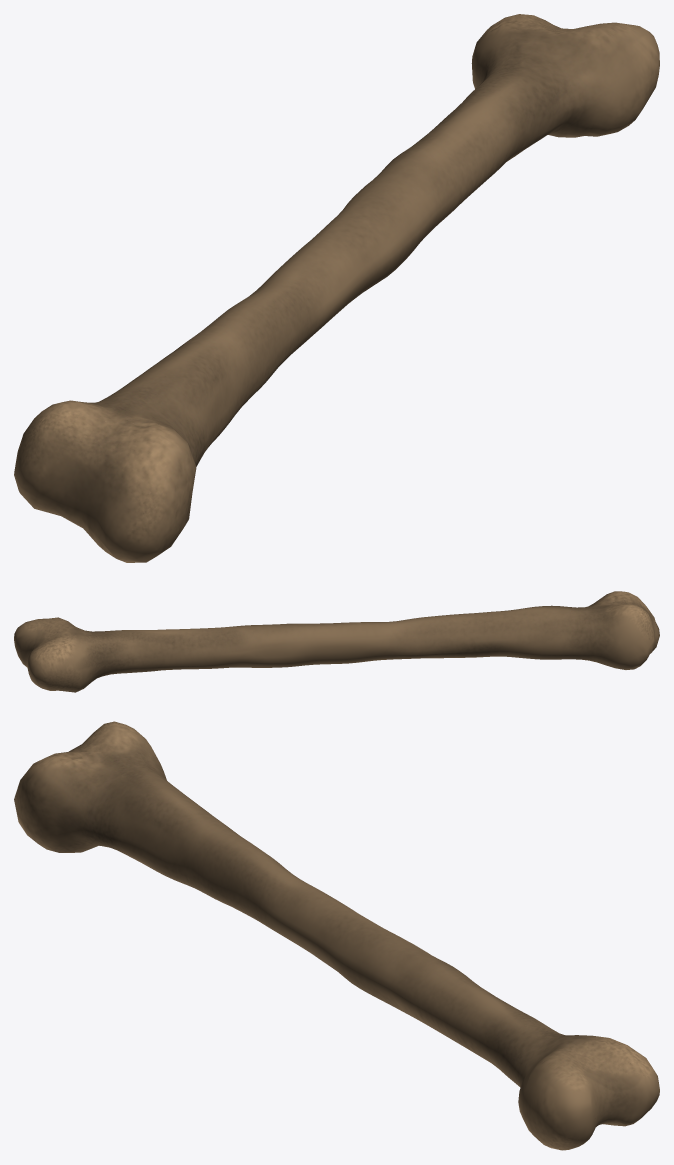
File: bone.fbx
The picture shows the model from 3 angles, top to bottom: view 1: azimuth 30°, elevation 25°; view 2: azimuth 150°, elevation 25°; view 3: azimuth 270°, elevation 25°; orthographic projection. The views are drawn at different scales.
Visible parts, largest first — view 1: Cylinder1.007; view 2: Cylinder1.007; view 3: Cylinder1.007.
Part boxes in pixels (x1,y1,x2,y2): Cylinder1.007: [14, 14, 659, 562]; Cylinder1.007: [14, 591, 659, 692]; Cylinder1.007: [14, 721, 659, 1150].
Size of the model in its own units: 50.47 by 7.23 by 38.23.
